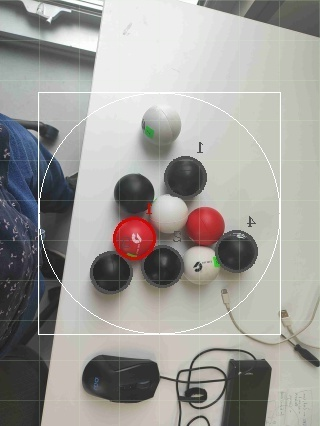Pelota blanca: (82, 353, 161, 405), (175, 347, 230, 408), (141, 103, 183, 147), (143, 379, 183, 425), (151, 193, 191, 235), (183, 244, 222, 286), (187, 414, 214, 425)
Pelota negra: (90, 249, 135, 296), (215, 228, 260, 272), (141, 244, 185, 288), (165, 156, 209, 198), (114, 172, 156, 216)
Pelota roja: (111, 214, 159, 262), (183, 204, 228, 246)
